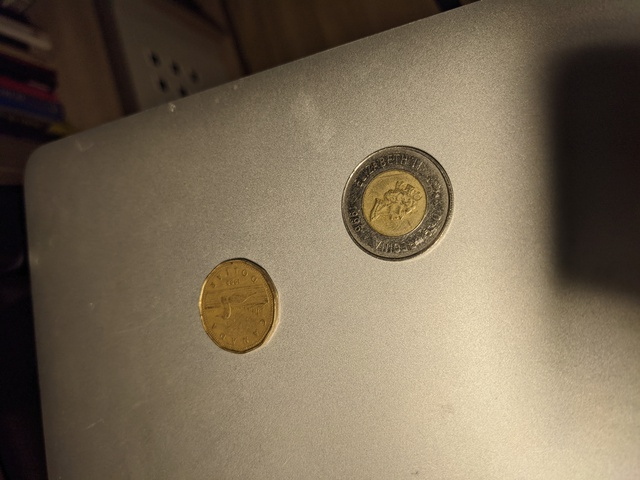loonie: (191, 256, 291, 355)
twonie: (340, 137, 457, 256)
